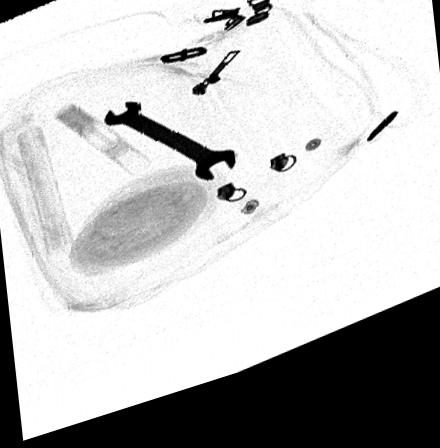Wrench: (101, 106, 238, 194)
